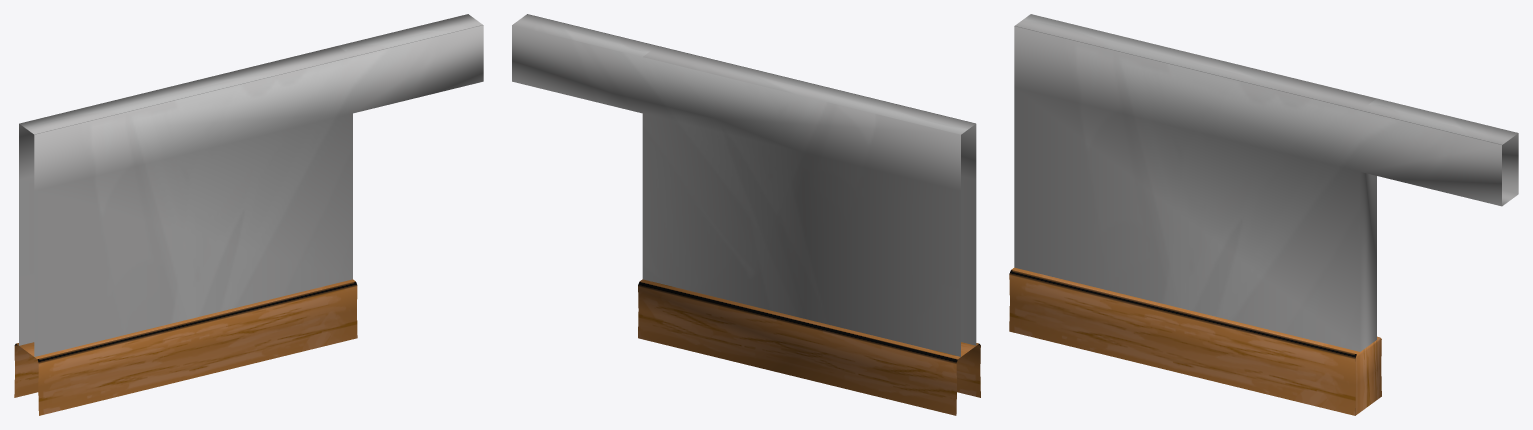
The model's file is GroundModuleMetalDoor_Large.fbx.
3 views of the same model, side by side, from view 1: azimuth 30°, elevation 25°; view 2: azimuth 150°, elevation 25°; view 3: azimuth 330°, elevation 25° (orthographic). The views are drawn at different scales.
Visible parts, largest first — view 1: GroundModuleMetalDoor_Large; view 2: GroundModuleMetalDoor_Large; view 3: GroundModuleMetalDoor_Large.
Boxes of the visible parts, bbox=[...] form: GroundModuleMetalDoor_Large: bbox=[14, 14, 483, 415]; GroundModuleMetalDoor_Large: bbox=[512, 14, 980, 415]; GroundModuleMetalDoor_Large: bbox=[1009, 14, 1518, 415].
Size of the model in its own units: 8.46 by 5 by 0.8.
